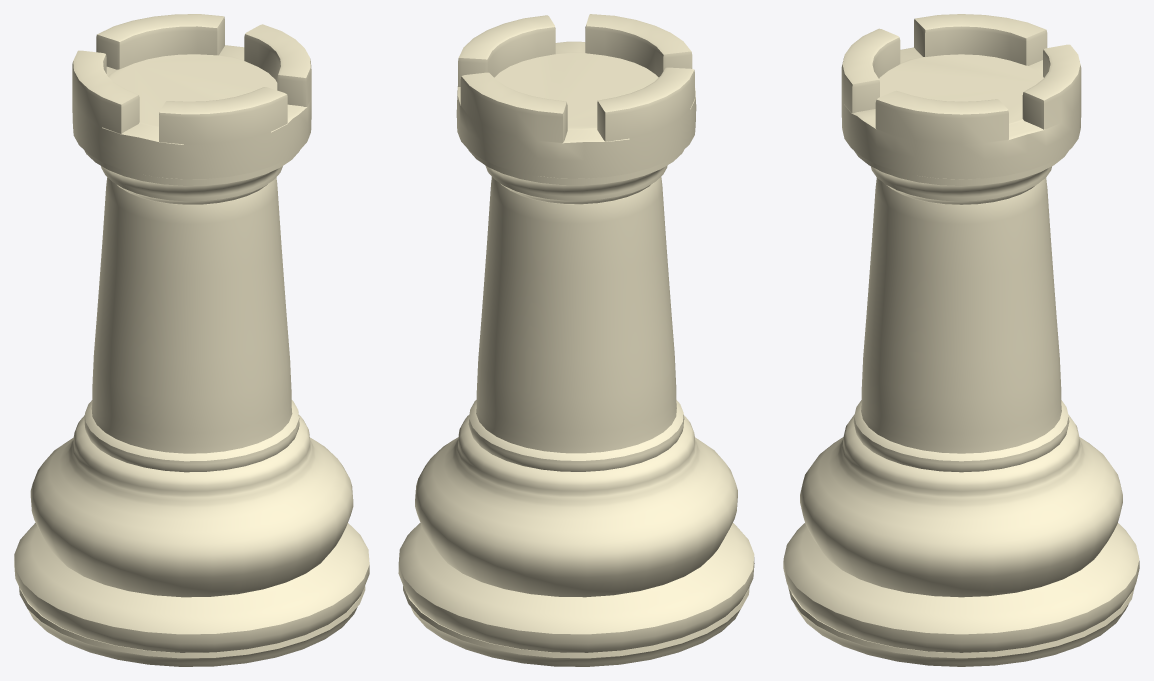
File: Rook.fbx
The picture shows the model from 3 angles, left to right: view 1: azimuth 30°, elevation 25°; view 2: azimuth 150°, elevation 25°; view 3: azimuth 270°, elevation 25°; orthographic projection.
Parts seen in each view (by area): view 1: Rook; view 2: Rook; view 3: Rook.
Boxes of the visible parts, x1,y1,x2,y2 form: Rook: [14, 14, 369, 666]; Rook: [398, 14, 754, 666]; Rook: [783, 14, 1139, 666].
Size of the model in its own units: 160 by 264 by 160.
